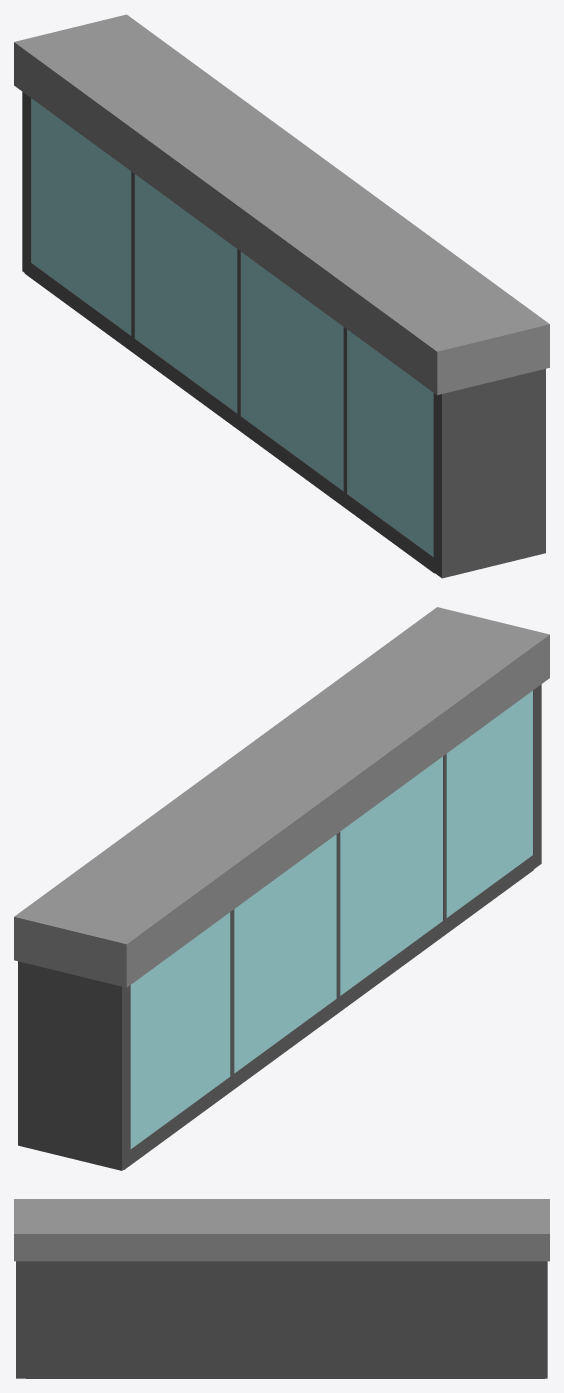
File: diary_and_eggs.gltf
The picture shows the model from 3 angles, top to bottom: view 1: azimuth 30°, elevation 25°; view 2: azimuth 150°, elevation 25°; view 3: azimuth 270°, elevation 25°; orthographic projection. The views are drawn at different scales.
Bounding box in the file's own units: 1.9 × 3.71 × 12.35.
